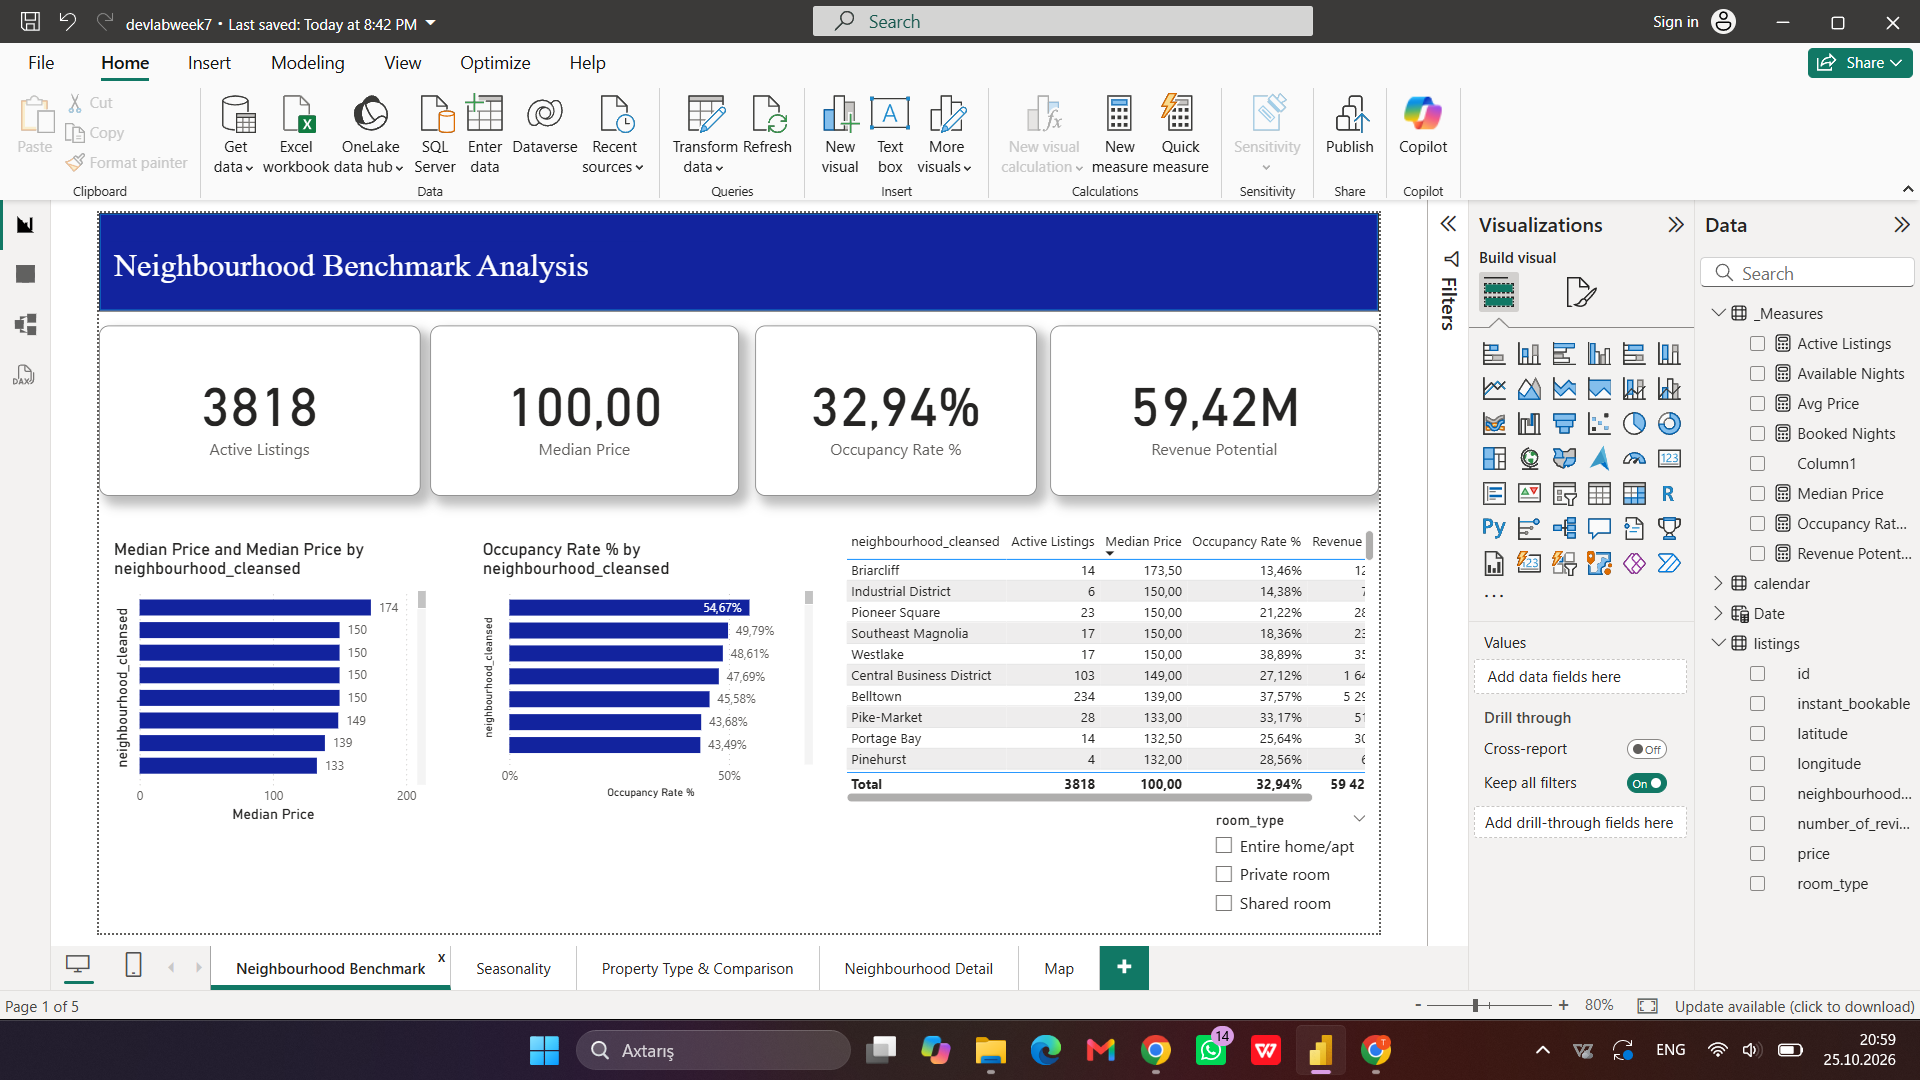

The dashboard page shown, as its layout file describes it:
{"tool":"powerbi","page":{"name":"Neighbourhood Benchmark","canvas":[1280,720],"ordinal":0},"visuals":[{"type":"card","fields":{"Values":["_Measures.Active Listings"]},"box":[0,112.9,321.4,170],"z":0},{"type":"card","fields":{"Values":["_Measures.Median Price"]},"box":[331.4,112.9,308.6,170],"z":1000},{"type":"card","fields":{"Values":["_Measures.Occupancy Rate %"]},"box":[655.7,112.9,281.4,170],"z":2000},{"type":"card","fields":{"Values":["_Measures.Revenue Potential"]},"box":[951.4,112.9,328.6,170],"z":3000},{"type":"clusteredBarChart","fields":{"Category":["listings.neighbourhood_cleansed"],"Y":["_Measures.Median Price","_Measures.Median Price"]},"box":[10,325.7,321.4,288.6],"z":4000},{"type":"clusteredBarChart","fields":{"Category":["listings.neighbourhood_cleansed"],"Y":["_Measures.Occupancy Rate %"]},"box":[378.6,325.7,340,264.3],"z":5000},{"type":"tableEx","fields":{"Values":["listings.neighbourhood_cleansed","_Measures.Active Listings","_Measures.Median Price","_Measures.Occupancy Rate %","_Measures.Revenue Potential"]},"box":[741.4,312.9,538.6,281.4],"z":6000},{"type":"slicer","fields":{"Values":["listings.room_type"]},"box":[1104.3,594.3,175.7,125.7],"z":7000},{"type":"shape","box":[0,0,1280,98.6],"z":7001},{"type":"textbox","box":[10,28.6,538.6,55.7],"z":7002}]}

Visuals, with their boxes on the page's 1280x720 design canvas (x1, y1, x2, y2). These are canvas units, not pixel positions in the 1920x1080 screenshot, which may show the page scaled, cropped or inside an application window:
card - _Measures.Active Listings: (0,113,321,283)
card - _Measures.Median Price: (331,113,640,283)
card - _Measures.Occupancy Rate %: (656,113,937,283)
card - _Measures.Revenue Potential: (951,113,1280,283)
clusteredBarChart - listings.neighbourhood_cleansed x _Measures.Median Price: (10,326,331,614)
clusteredBarChart - listings.neighbourhood_cleansed x _Measures.Occupancy Rate %: (379,326,719,590)
tableEx - listings.neighbourhood_cleansed x _Measures.Active Listings: (741,313,1280,594)
slicer - listings.room_type: (1104,594,1280,720)
shape: (0,0,1280,99)
textbox: (10,29,549,84)
